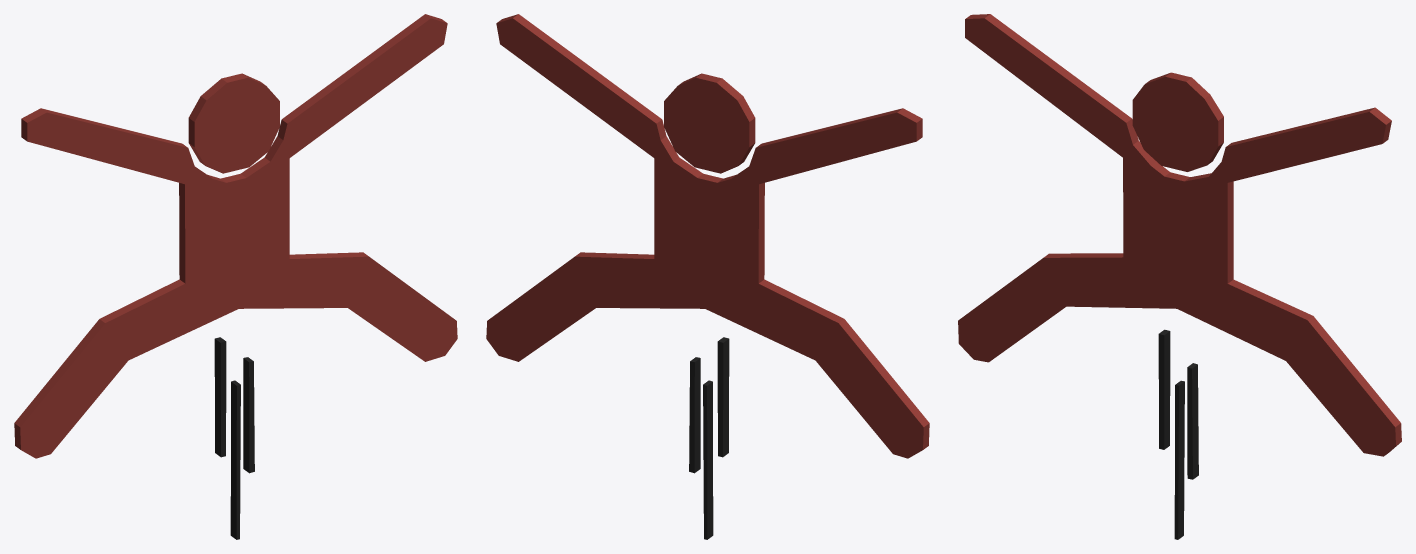
The model's file is Jumping_Wallcarving.glb.
The picture shows the model from 3 angles, left to right: view 1: azimuth 30°, elevation 25°; view 2: azimuth 150°, elevation 25°; view 3: azimuth 330°, elevation 25°; orthographic projection.
Parts seen in each view (by area): view 1: Plane; view 2: Plane; view 3: Plane.
Part boxes in pixels (<box>): Plane: <box>14,14,457,539</box>; Plane: <box>486,14,929,539</box>; Plane: <box>958,14,1401,539</box>.
Size of the model in its own units: 0.6014 by 0.623 by 0.014.
